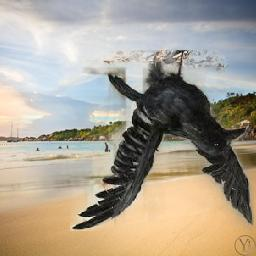Crow: (70, 51, 254, 232)
